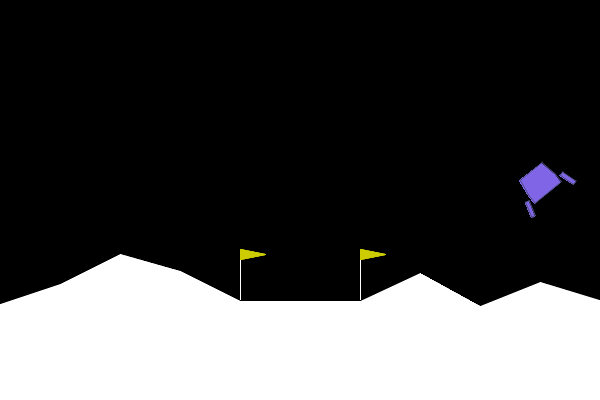lander: (506, 151, 578, 220)
